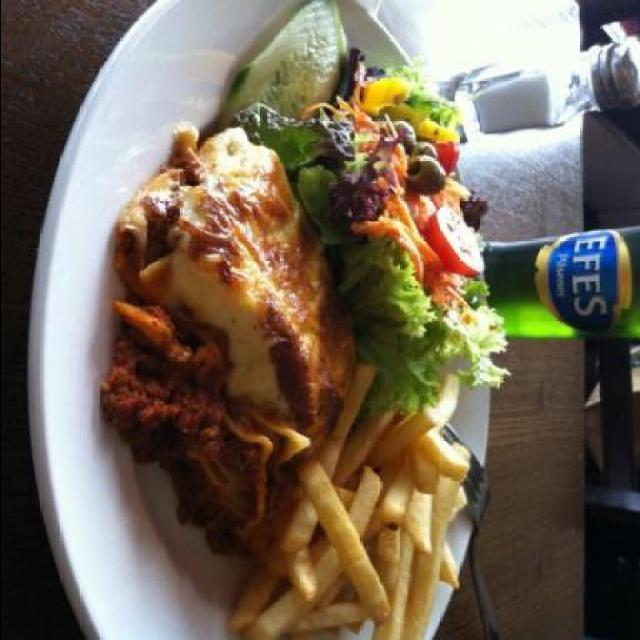Lasagna: (119, 150, 328, 487)
